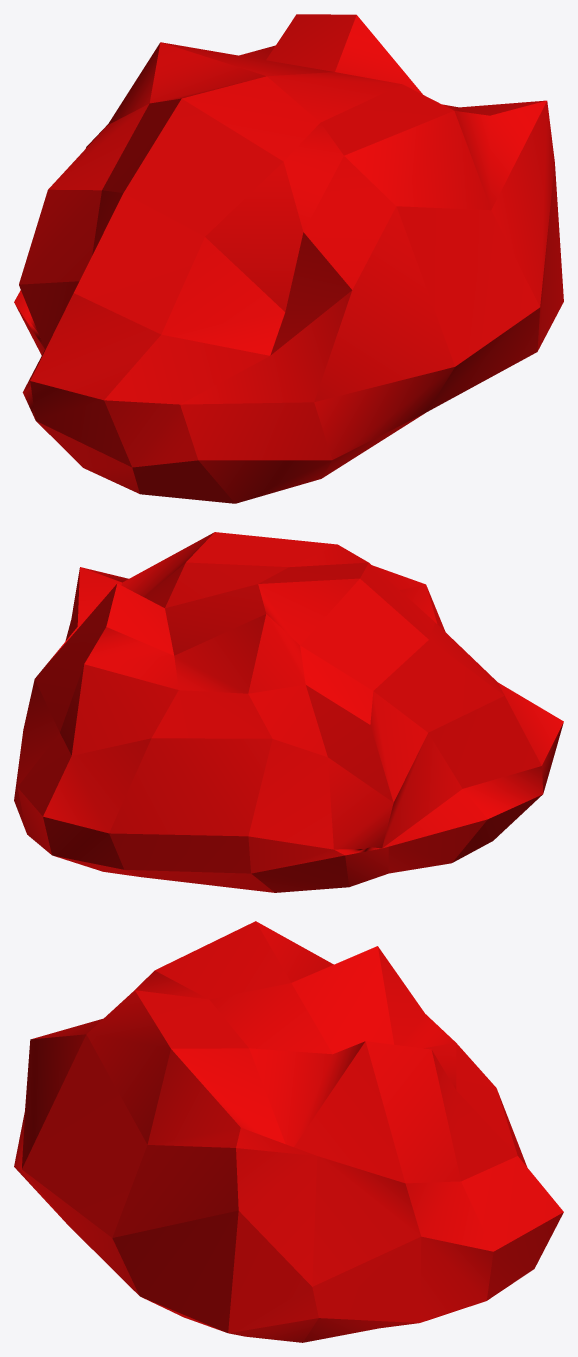
File: Bush02.fbx
The picture shows the model from 3 angles, top to bottom: view 1: azimuth 30°, elevation 25°; view 2: azimuth 150°, elevation 25°; view 3: azimuth 270°, elevation 25°; orthographic projection. The views are drawn at different scales.
Visible parts, largest first — view 1: Bush_02; view 2: Bush_02; view 3: Bush_02.
Boxes of the visible parts, x1,y1,x2,y2 form: Bush_02: (14,14,563,503); Bush_02: (14,532,563,892); Bush_02: (14,921,563,1342).
Bounding box in the file's own units: 1.87 × 1.01 × 1.79.
